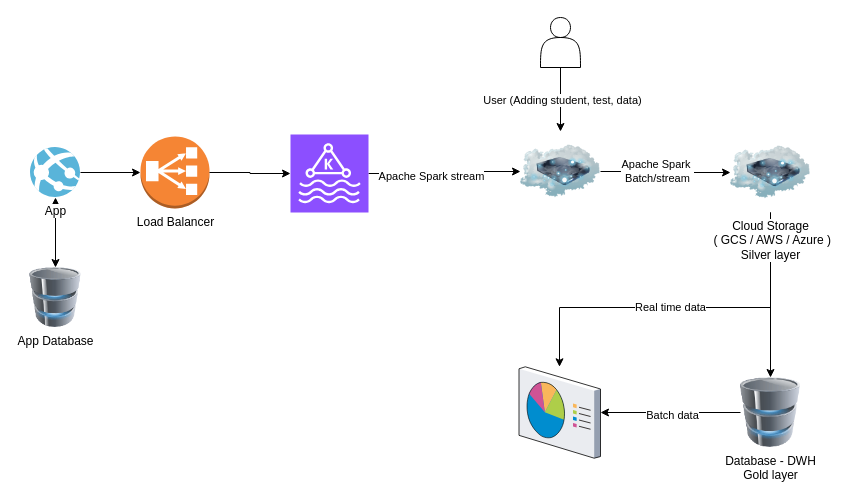
Image size: 848x501. Some labels were removed from this diagram. The shapes that lost their labels are listed below. From the top down, each one's centre as x and y in pixels, then its label:
the point at 329,173: Apache Kafka
the point at 560,171: Cloud Storage ( GCS / AWS / Azure ) Bronze layer
